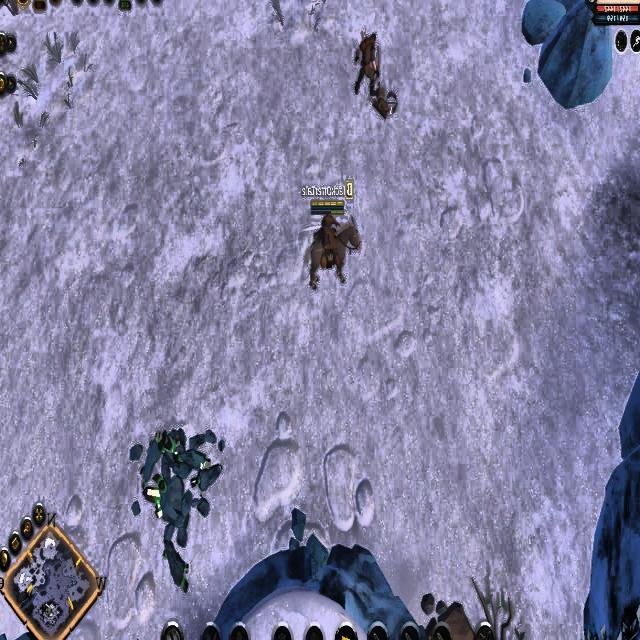limestone: (420, 595, 485, 640)
tinore: (153, 419, 189, 464)
